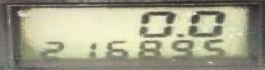-: (174, 32, 183, 37)
0: (136, 9, 174, 36), (187, 9, 224, 36)
1: (86, 41, 97, 59)
2: (38, 40, 64, 60)
5: (201, 38, 226, 58)
6: (104, 39, 126, 58)
8: (136, 39, 159, 58)
9: (169, 39, 193, 59)
